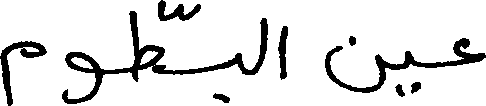ا: (276, 23, 290, 80)
ب: (210, 51, 244, 105)
ط: (127, 0, 164, 83)
ع: (452, 35, 484, 66)
ل: (251, 15, 267, 75)
م: (0, 38, 47, 104)
ن: (324, 34, 385, 94)
و: (65, 49, 102, 104)
ي: (397, 48, 422, 94)
